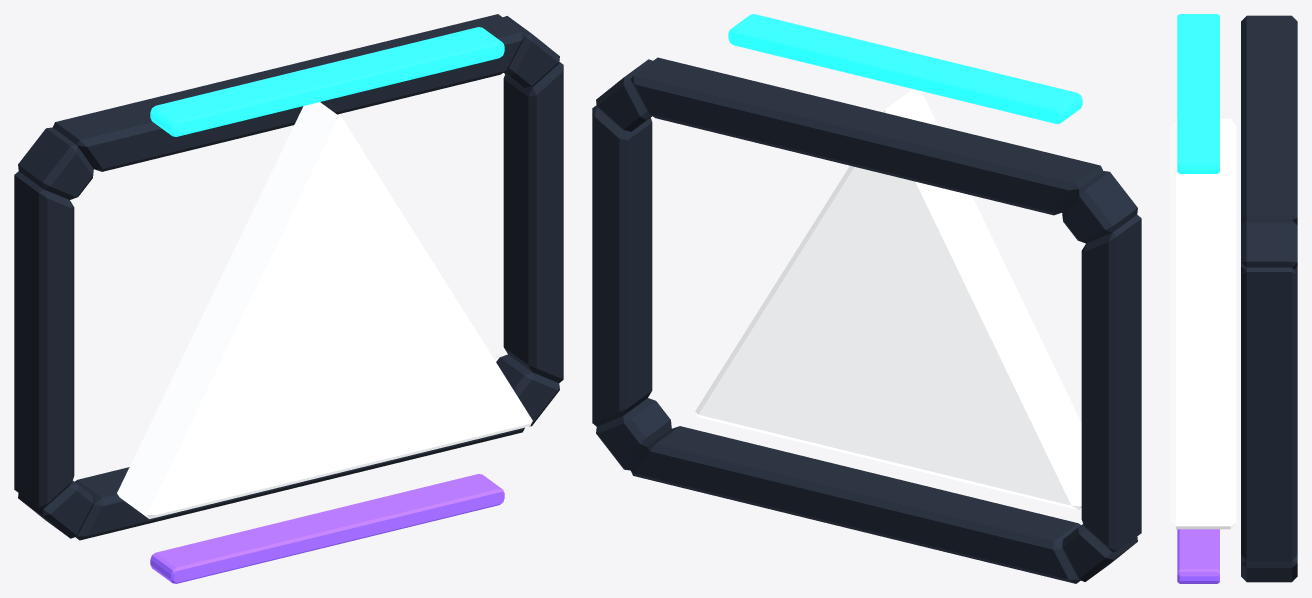
The model's file is tech-vercel.glb.
3 renders of one model, left to right at view 1: azimuth 30°, elevation 25°; view 2: azimuth 150°, elevation 25°; view 3: azimuth 270°, elevation 25°, orthographic. The views are drawn at different scales.
Parts seen in each view (by area): view 1: tech-vercel_LabelMaterial, tech-vercel_SystemMaterial, tech-vercel_AccentMaterial, tech-vercel_SignalMaterial; view 2: tech-vercel_SystemMaterial, tech-vercel_LabelMaterial, tech-vercel_SignalMaterial; view 3: tech-vercel_SystemMaterial, tech-vercel_LabelMaterial, tech-vercel_SignalMaterial, tech-vercel_AccentMaterial.
Part boxes in pixels (box(x1,y1,x2,y2)): tech-vercel_LabelMaterial: box(117, 102, 532, 518); tech-vercel_SystemMaterial: box(14, 14, 563, 540); tech-vercel_AccentMaterial: box(150, 474, 504, 583); tech-vercel_SignalMaterial: box(150, 27, 504, 136); tech-vercel_SystemMaterial: box(592, 57, 1141, 583); tech-vercel_LabelMaterial: box(695, 89, 1081, 509); tech-vercel_SignalMaterial: box(728, 14, 1082, 123); tech-vercel_SystemMaterial: box(1241, 15, 1297, 582); tech-vercel_LabelMaterial: box(1170, 118, 1236, 529); tech-vercel_SignalMaterial: box(1177, 14, 1219, 173); tech-vercel_AccentMaterial: box(1177, 529, 1219, 583).
Size of the model in its own units: 1.18 by 0.995 by 0.27.
